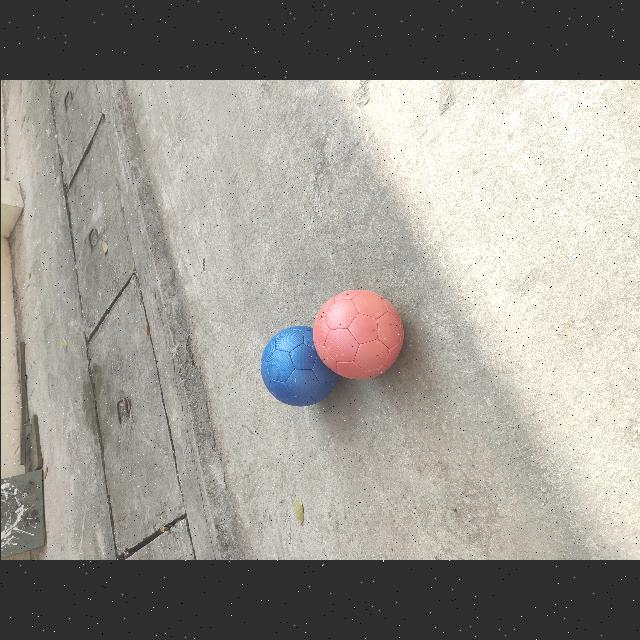B: (260, 325, 338, 406)
R: (312, 290, 402, 379)
